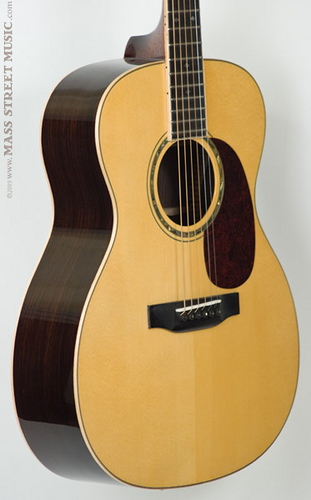guitar: (8, 1, 303, 489)
